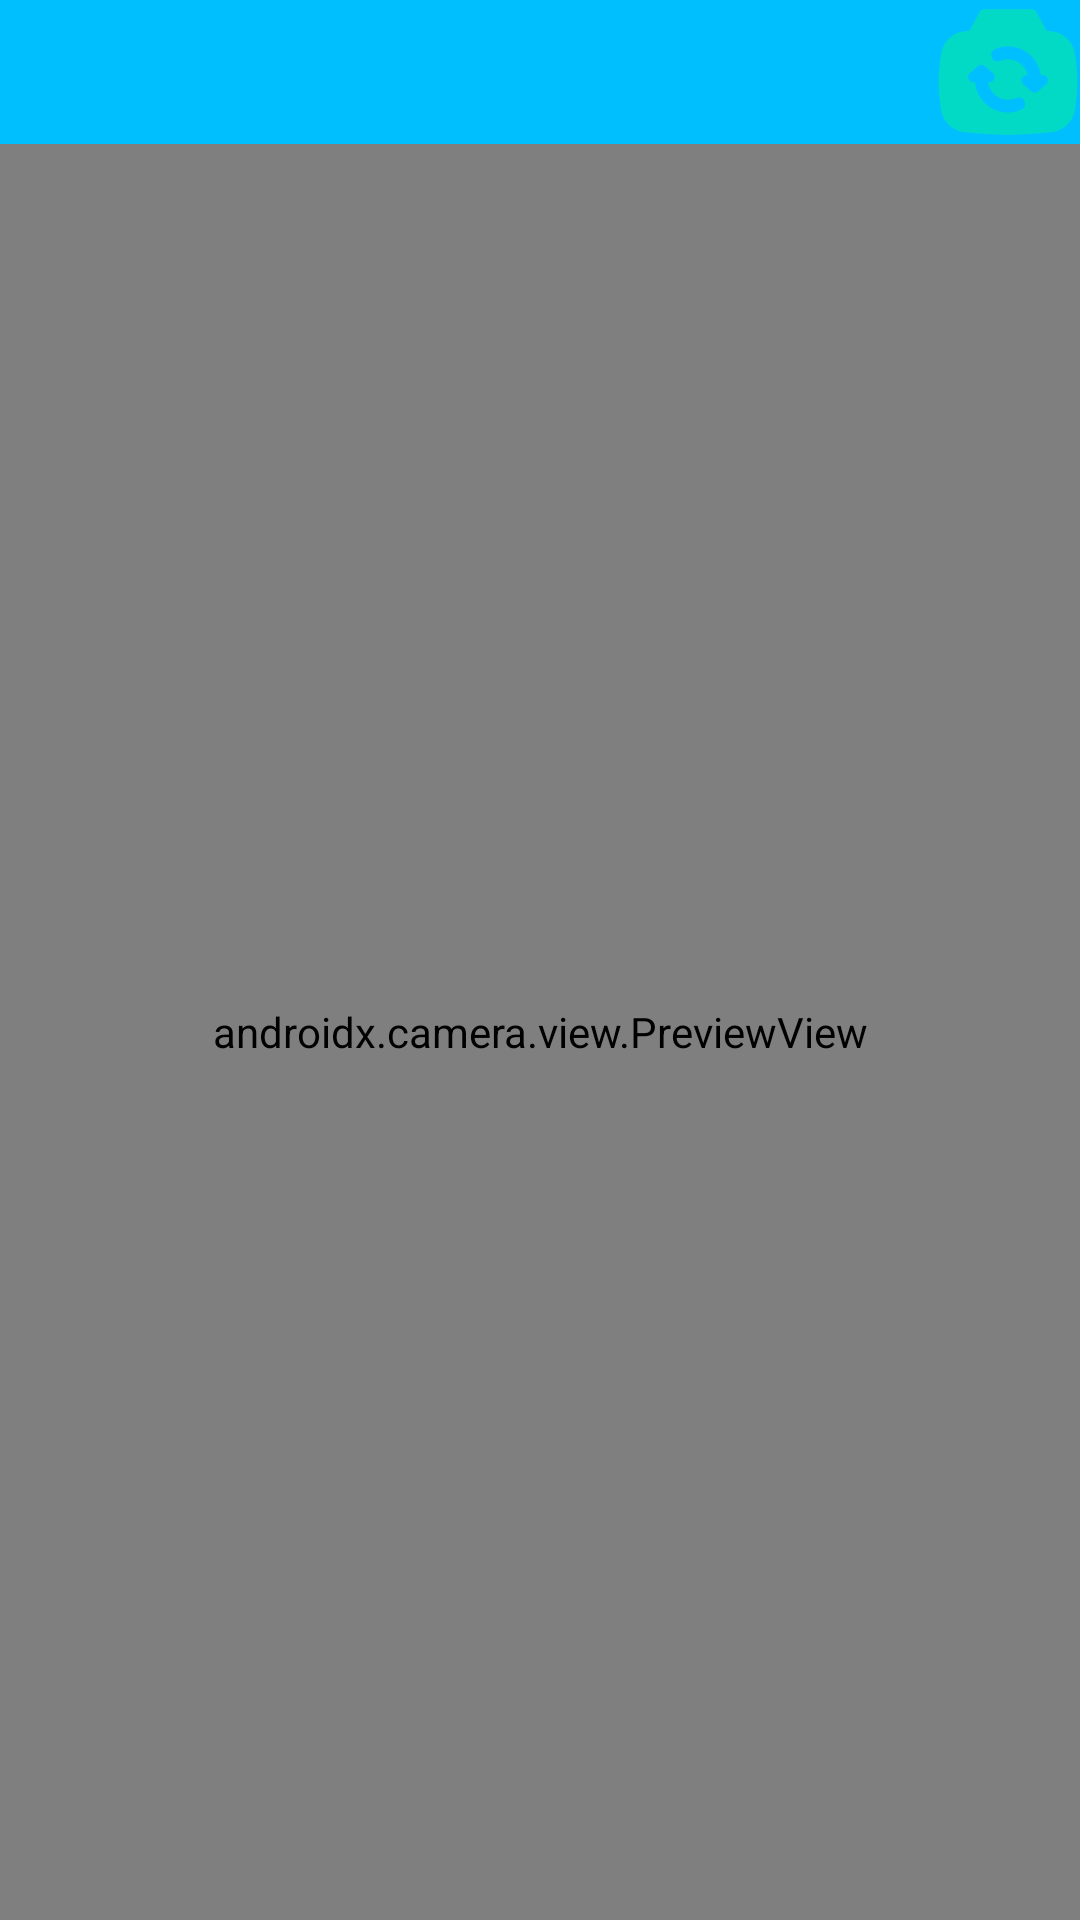

Icon bounding boxes for this 1080 x 1920 phone screenshot, format (left=x1, top=y1, right=x2, bottom=y2):
camera switch: (left=938, top=9, right=1078, bottom=135)
